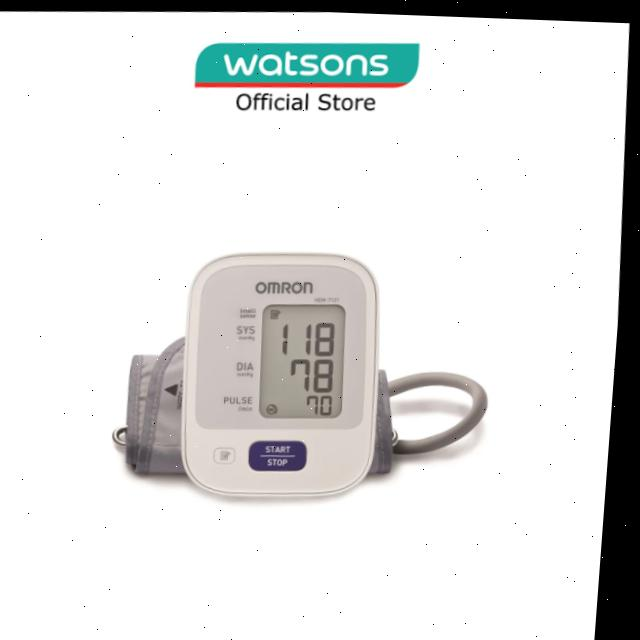dia: (290, 353, 347, 390)
pul: (310, 390, 344, 414)
ssd: (266, 301, 349, 417)
sys: (282, 317, 343, 354)
